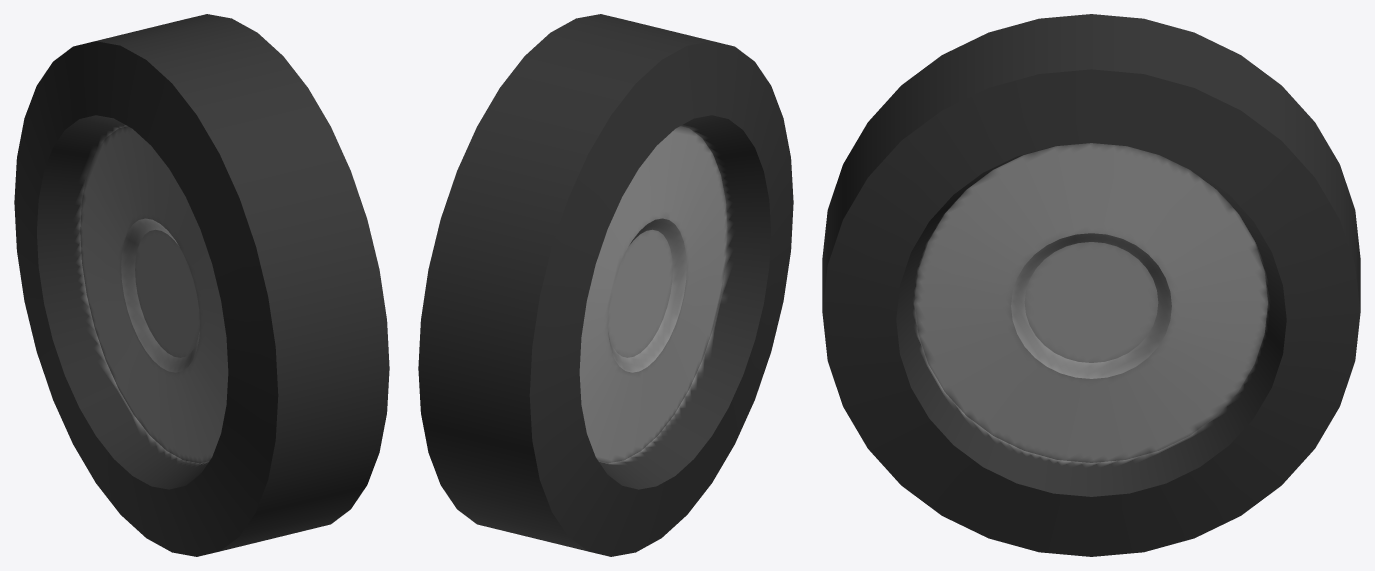
Rendered from carTyre_01.fbx.
3 renders of one model, left to right at view 1: azimuth 30°, elevation 25°; view 2: azimuth 150°, elevation 25°; view 3: azimuth 270°, elevation 25°, orthographic.
Parts seen in each view (by area): view 1: carTyre_01; view 2: carTyre_01; view 3: carTyre_01.
Part boxes in pixels (x1,y1,x2,y2): carTyre_01: (14, 14, 389, 556); carTyre_01: (418, 14, 793, 556); carTyre_01: (822, 14, 1360, 556).
Bounding box in the file's own units: 27.98 × 92.14 × 92.14.
